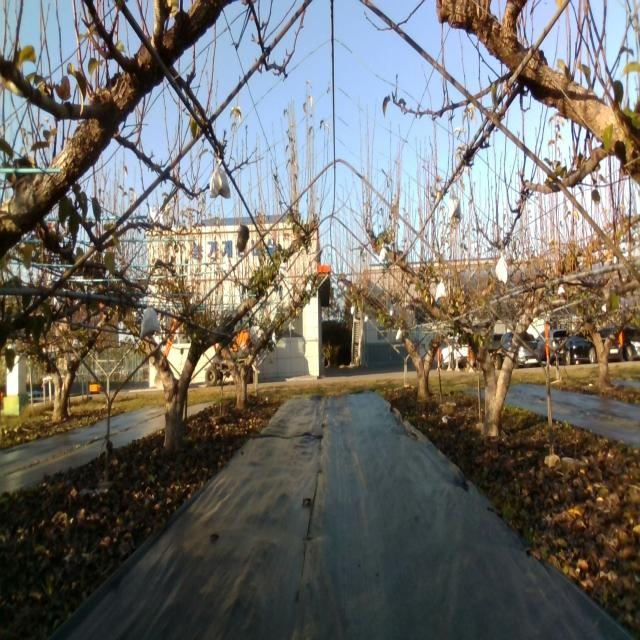pearbags: (208, 156, 230, 201), (140, 305, 162, 341), (494, 256, 508, 283), (448, 192, 461, 220), (436, 278, 446, 302)
